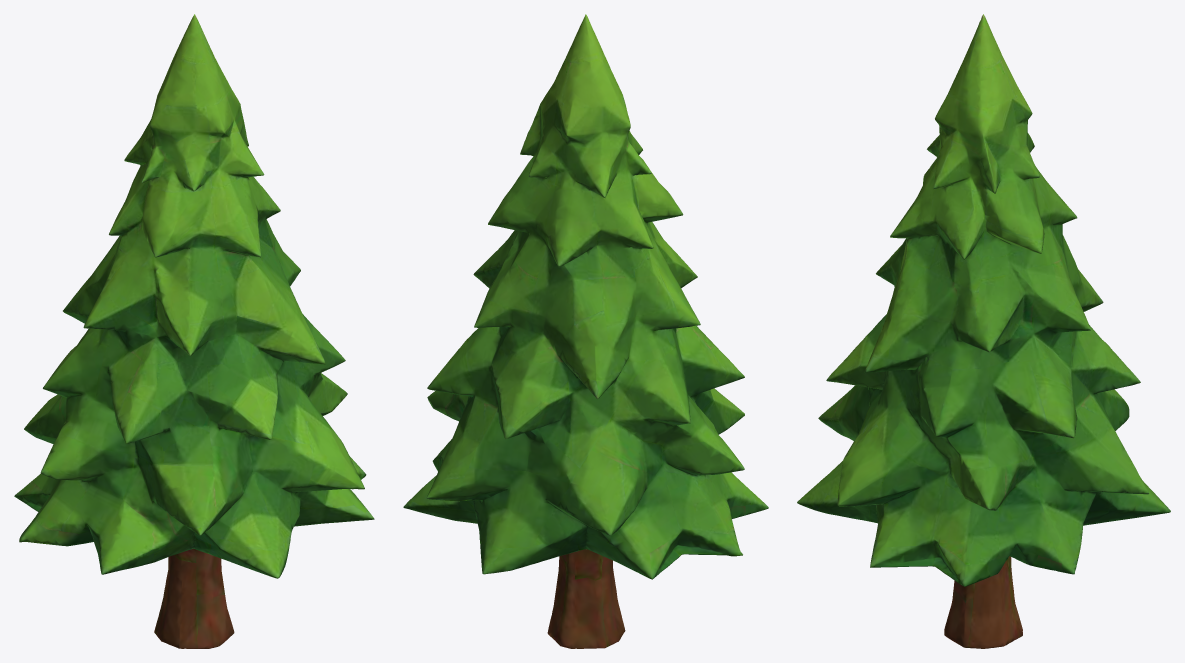
3 renders of one model, left to right at view 1: azimuth 30°, elevation 25°; view 2: azimuth 150°, elevation 25°; view 3: azimuth 270°, elevation 25°, orthographic.
Parts seen in each view (by area): view 1: mesh_node; view 2: mesh_node; view 3: mesh_node.
Boxes of the visible parts, x1,y1,x2,y2 form: mesh_node: (14,14,374,648); mesh_node: (403,14,768,648); mesh_node: (797,14,1170,648).
Bounding box in the file's own units: 1.05 × 1.9 × 1.04.
1 material, 1 textured.
